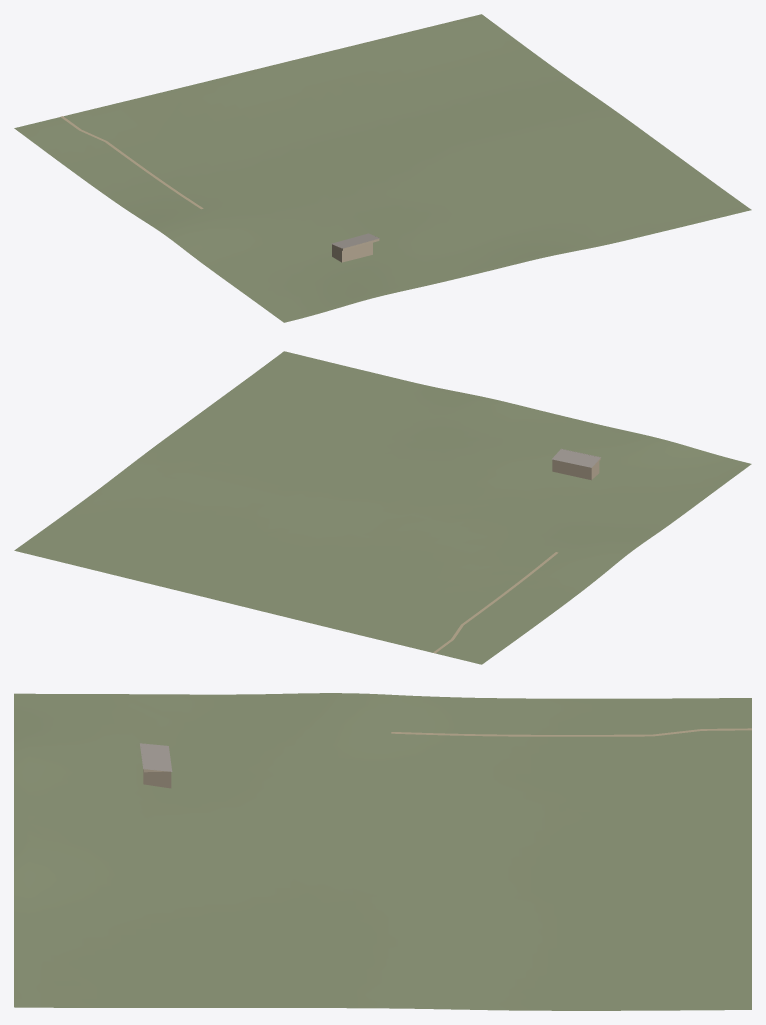
The picture shows the model from 3 angles, top to bottom: view 1: azimuth 30°, elevation 25°; view 2: azimuth 150°, elevation 25°; view 3: azimuth 270°, elevation 25°; orthographic projection. The views are drawn at different scales.
Parts seen in each view (by area): view 1: ground, walls; view 2: ground, walls, sheetRoofs; view 3: ground, path, sheetRoofs.
Boxes of the visible parts, bbox=[...] form: ground: bbox=[14, 14, 751, 322]; walls: bbox=[332, 238, 379, 262]; ground: bbox=[14, 351, 751, 664]; walls: bbox=[552, 455, 600, 480]; sheetRoofs: bbox=[552, 448, 600, 467]; ground: bbox=[14, 693, 751, 1010]; path: bbox=[391, 728, 751, 736]; sheetRoofs: bbox=[140, 743, 172, 771].
Bounding box in the file's own units: 250 × 9.64 × 250.
